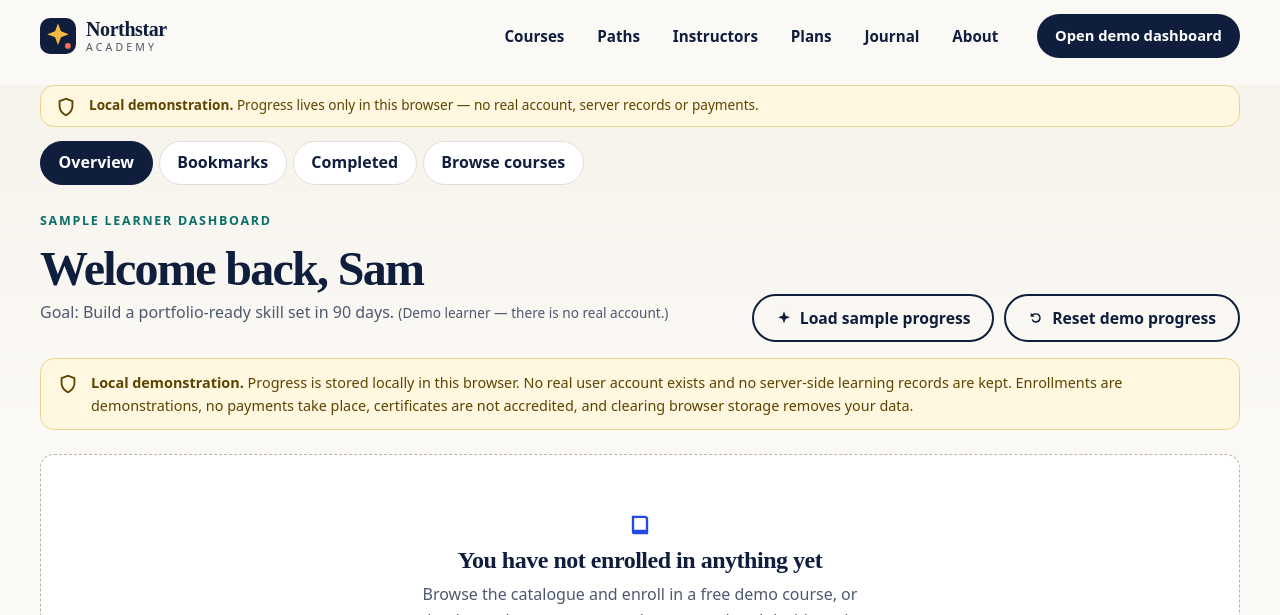
Test case: dashboard › shows an empty state, loads sample progress and resets through a confirmation dialog
The width and height of the screenshot is (1280, 615).
Check: the heading "You have not enrolled in anything yet" is shown, box [458, 547, 822, 574]
Click the button "Load sample progress" in the row of "Goal:": [873, 318] box [752, 294, 994, 342]
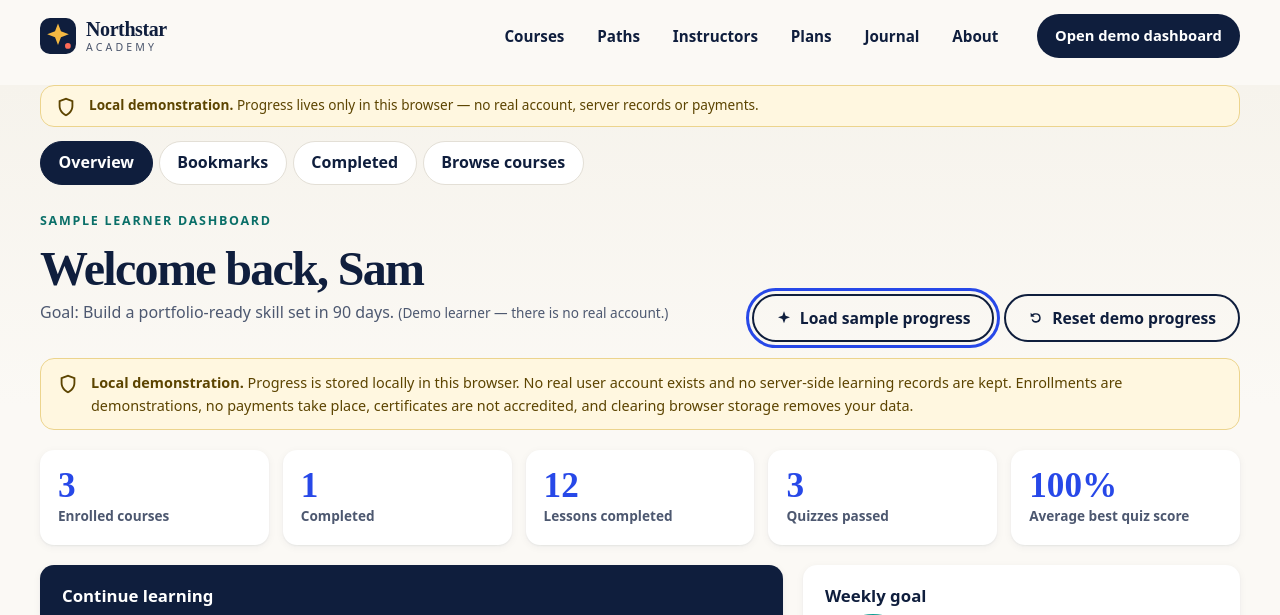
Check: the heading "Continue learning" is shown, box [62, 584, 213, 607]
Click the button "Reset demo progress": [1122, 318] box [1004, 294, 1240, 342]
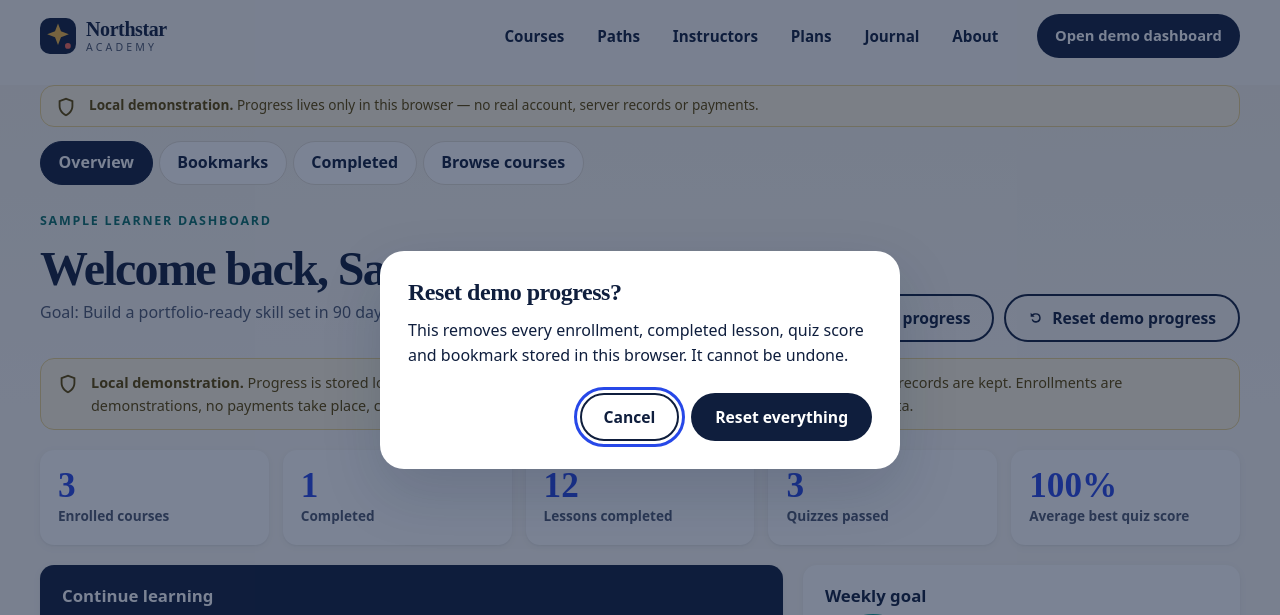
Click the button "Cancel": [629, 417] box [580, 393, 679, 441]
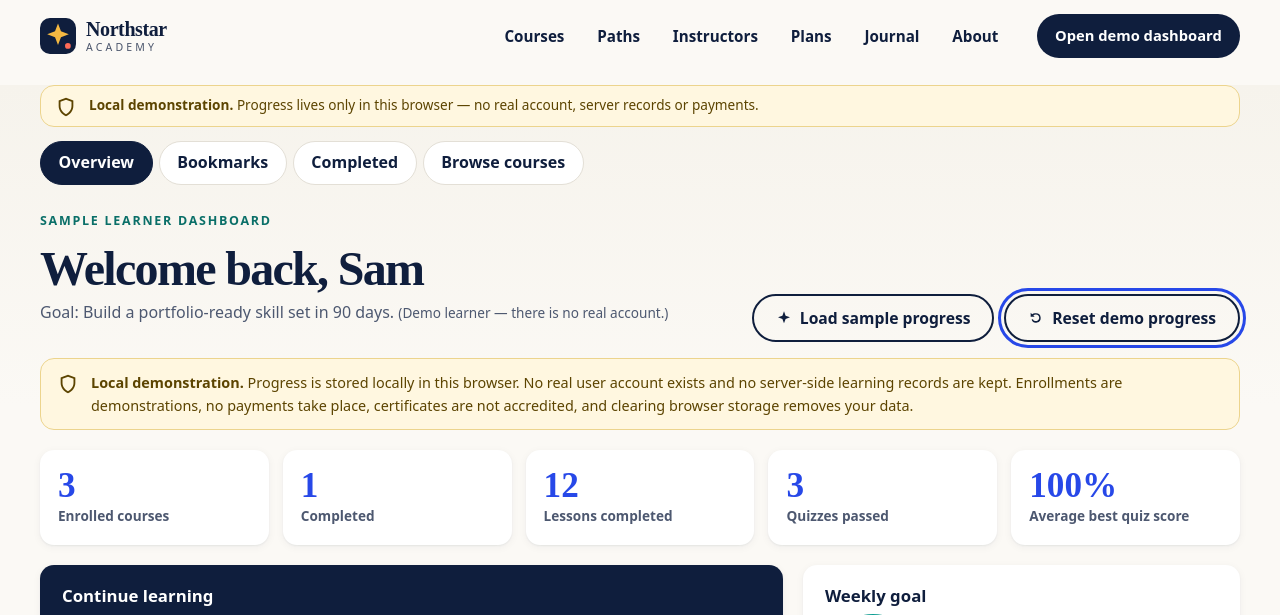
Click the button "Reset demo progress": [1122, 318] box [1004, 294, 1240, 342]
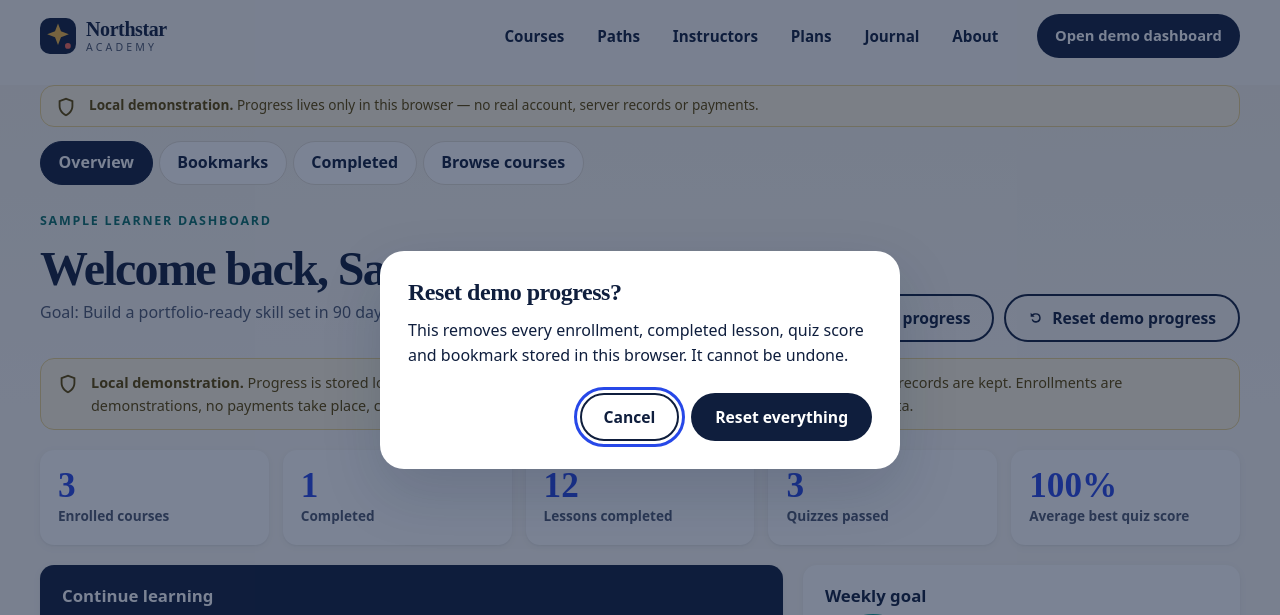
Click the button "Reset everything": [782, 417] box [691, 393, 872, 441]
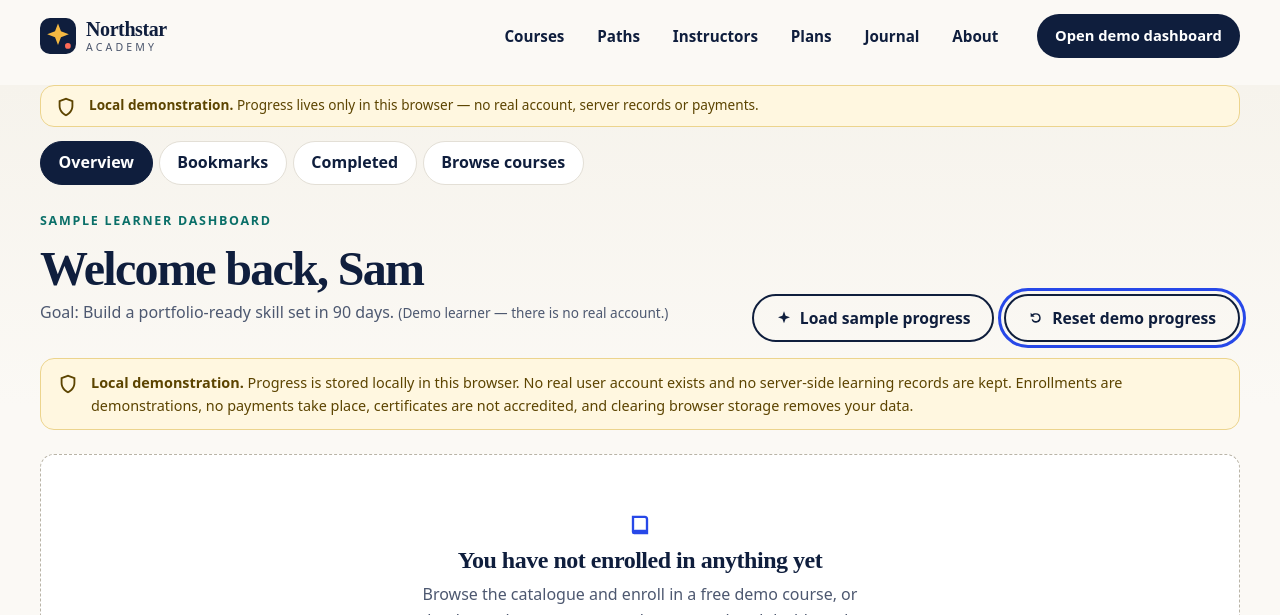
Check: the heading "You have not enrolled in anything yet" is shown, box [458, 547, 822, 574]
